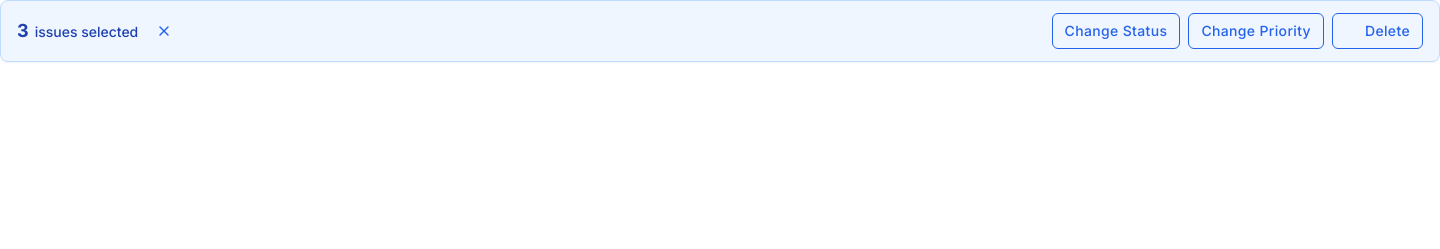
Test: BulkActionsBar › closes dropdowns when delete is clicked
// Open status dropdown
Click the button "Change Status". click: {"x": 1116, "y": 31}
box: [1052, 13, 1180, 48]
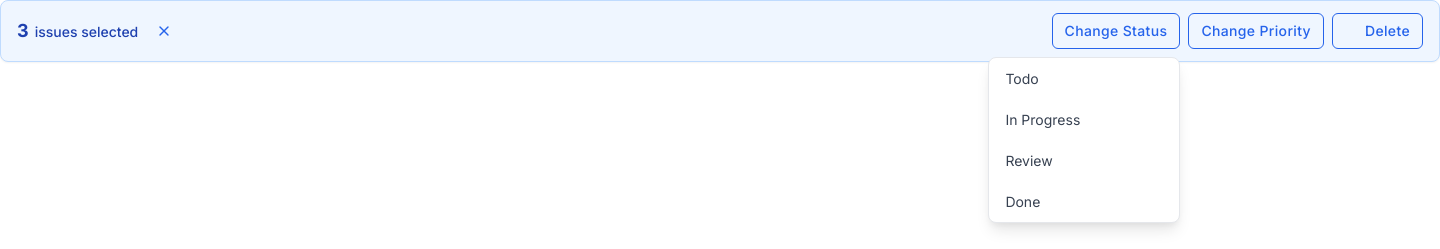
Expected: the menu is shown, [988, 56, 1180, 222]
// Click delete
Click the button with aria-label "delete selected issues". click: {"x": 1378, "y": 31}
box: [1332, 13, 1423, 48]
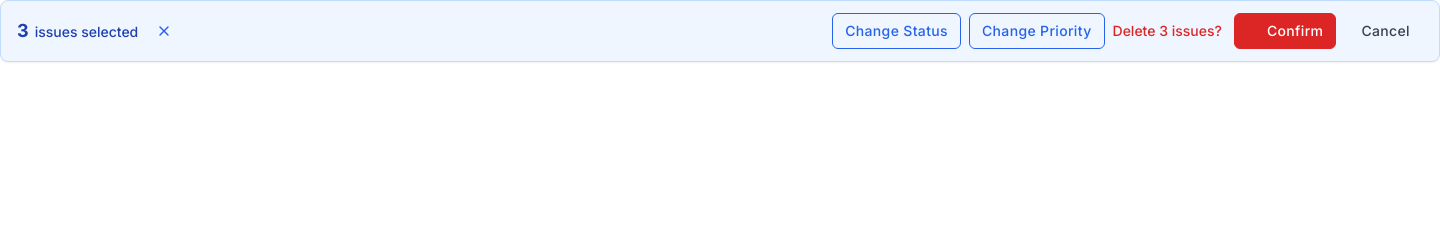
Expected: the menu is gone
Expected: the text "Delete 3 issues?" is shown, [1112, 20, 1222, 41]
